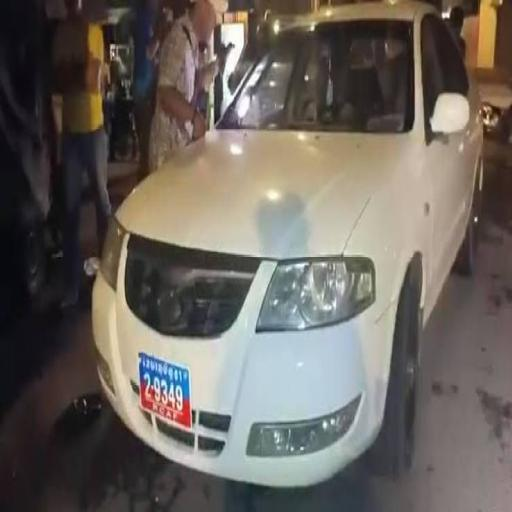Plate Number: (139, 353, 192, 430)
